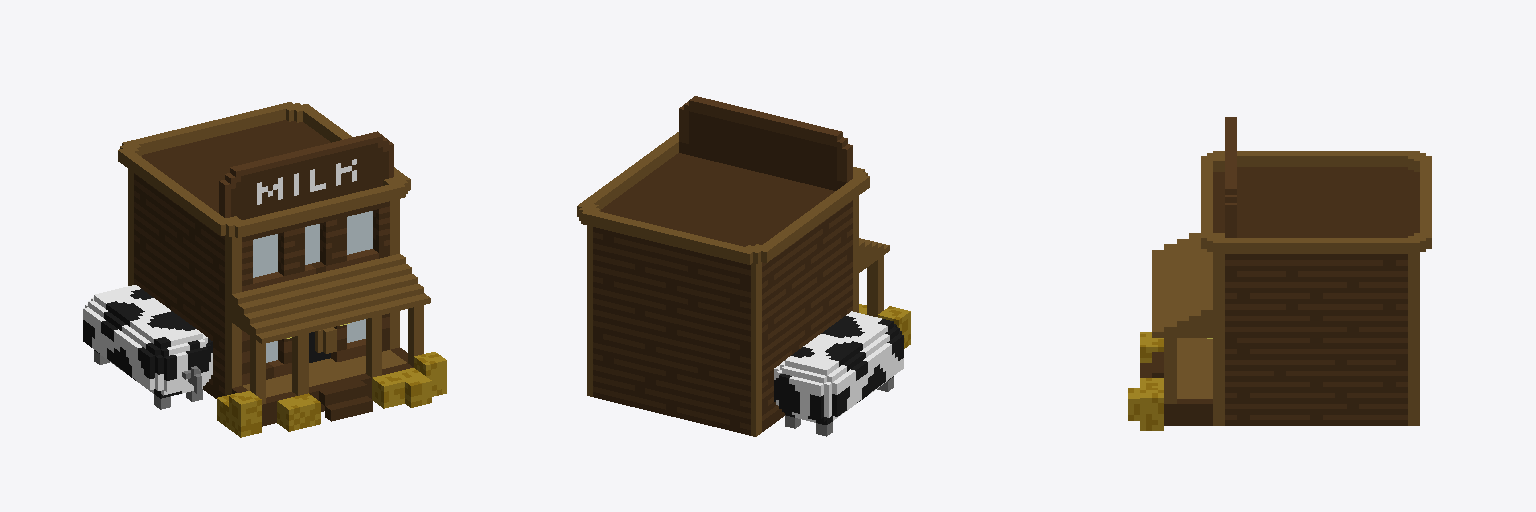
3 renders of one model, left to right at view 1: azimuth 30°, elevation 25°; view 2: azimuth 150°, elevation 25°; view 3: azimuth 270°, elevation 25°, orthographic.
Parts seen in each view (by area): view 1: milk1; view 2: milk1; view 3: milk1.
Part boxes in pixels (x1,y1,x2,y2): milk1: (83, 102, 446, 437); milk1: (577, 96, 910, 436); milk1: (1128, 117, 1431, 430).
Size of the model in its own units: 46 by 42 by 50.
Materials: 1 (1 with a texture image).